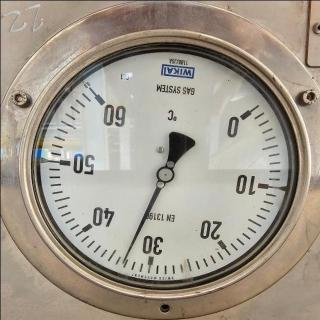gauge: (1, 17, 319, 319), (82, 80, 130, 128), (227, 102, 261, 132), (156, 165, 176, 183), (118, 253, 131, 267)
